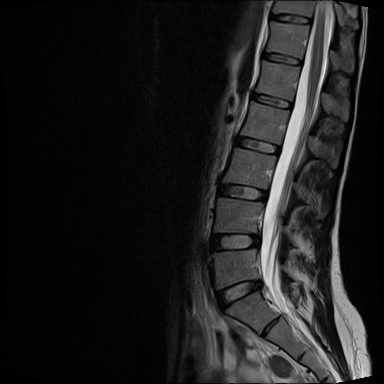Normal IVD: (210, 273, 266, 315), (205, 227, 264, 258), (213, 178, 268, 207), (231, 133, 284, 159), (245, 90, 295, 113), (259, 49, 305, 68), (268, 9, 314, 26)
